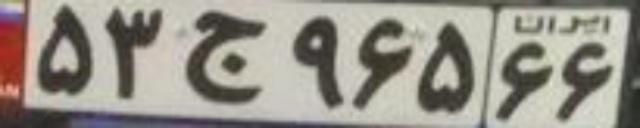3: (107, 8, 160, 98)
5: (416, 19, 474, 114), (37, 3, 93, 94)
6: (350, 14, 416, 111), (558, 37, 617, 121), (496, 38, 554, 120)
9: (289, 16, 344, 108)
jim: (185, 11, 266, 105)
